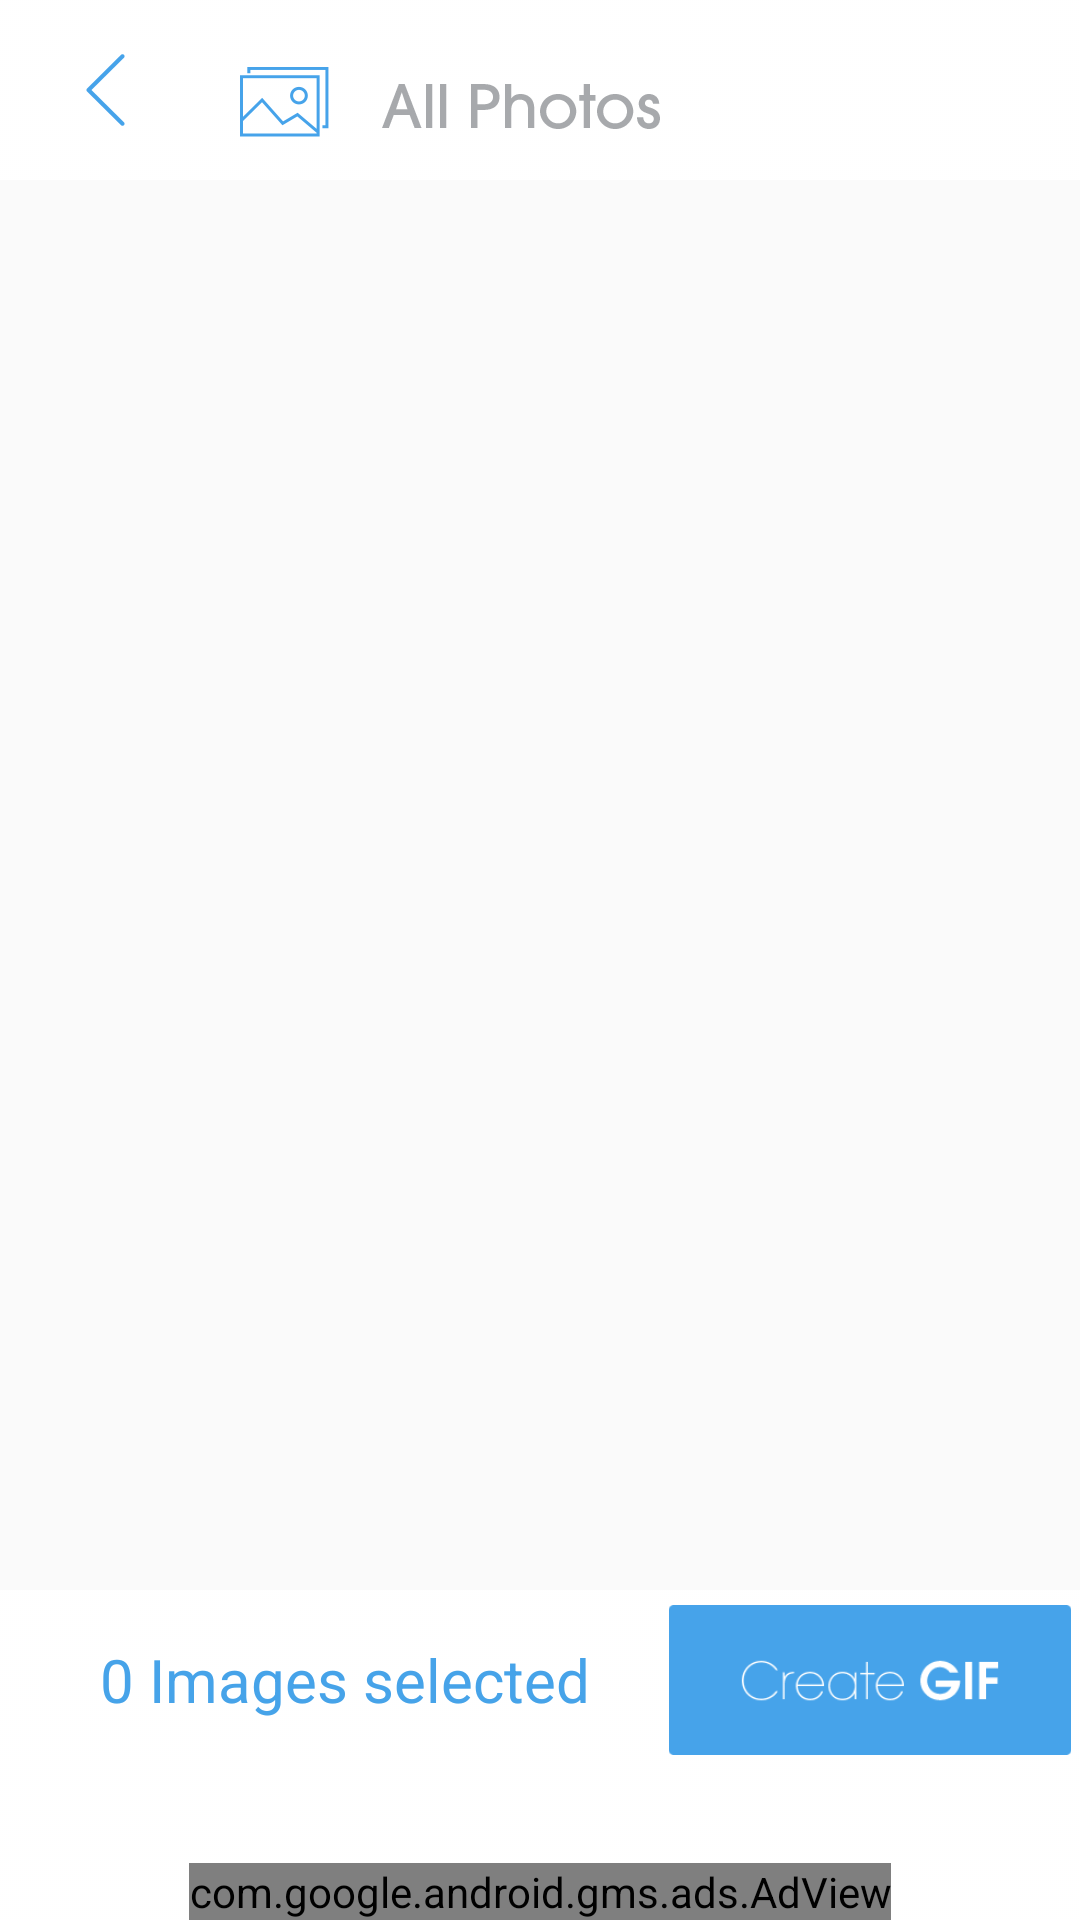

Icons on this 1080px×1920px Android screen, each with the point to tap as point (x, y):
back: point (105, 90)
